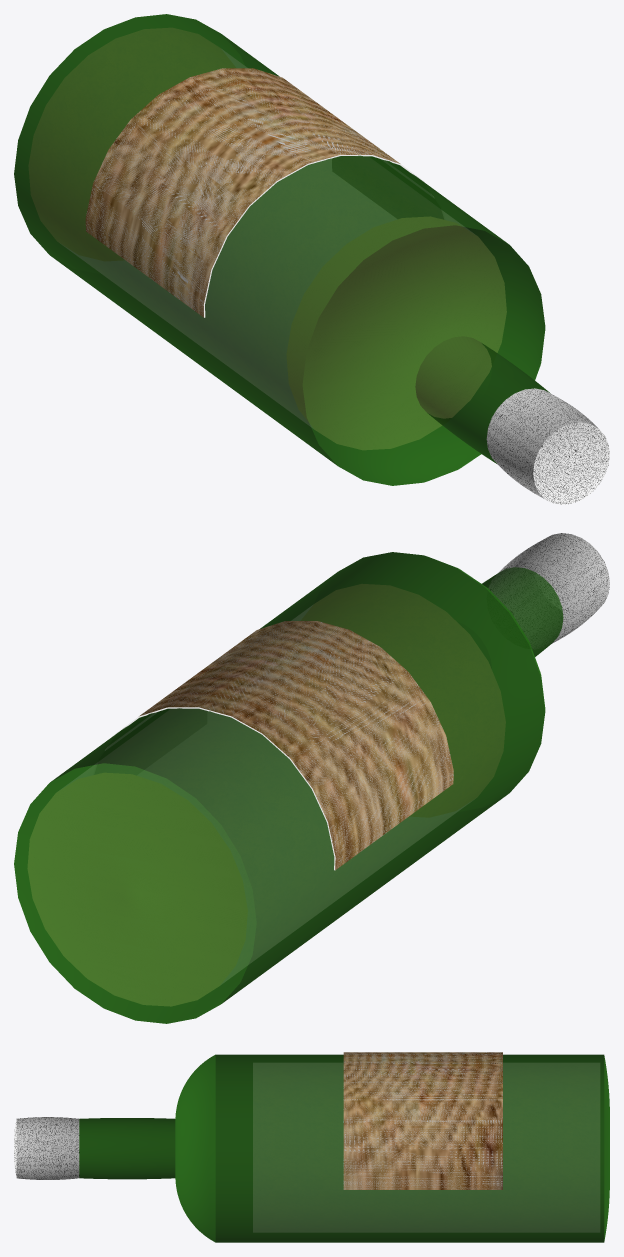
Rendered from model_align.obj.
3 views of the same model, one above another, from view 1: azimuth 30°, elevation 25°; view 2: azimuth 150°, elevation 25°; view 3: azimuth 270°, elevation 25° (orthographic). The views are drawn at different scales.
Parts seen in each view (by area): view 1: mesh3_mesh3-geometry, mesh5_mesh5-geometry, mesh1_mesh1-geometry, mesh2_mesh2-geometry, mesh4_mesh4-geometry; view 2: mesh3_mesh3-geometry, mesh1_mesh1-geometry, mesh4_mesh4-geometry, mesh2_mesh2-geometry, mesh5_mesh5-geometry; view 3: mesh3_mesh3-geometry, mesh2_mesh2-geometry, mesh5_mesh5-geometry, mesh4_mesh4-geometry.
Part boxes in pixels (<box>): mesh3_mesh3-geometry: <box>14,14,544,485</box>; mesh5_mesh5-geometry: <box>302,225,609,504</box>; mesh1_mesh1-geometry: <box>29,28,506,449</box>; mesh2_mesh2-geometry: <box>85,68,433,317</box>; mesh4_mesh4-geometry: <box>14,14,243,273</box>; mesh3_mesh3-geometry: <box>14,552,545,1023</box>; mesh1_mesh1-geometry: <box>28,584,505,1005</box>; mesh4_mesh4-geometry: <box>14,763,256,1023</box>; mesh2_mesh2-geometry: <box>105,621,453,870</box>; mesh5_mesh5-geometry: <box>315,533,609,811</box>; mesh3_mesh3-geometry: <box>215,1054,604,1242</box>; mesh2_mesh2-geometry: <box>343,1052,502,1189</box>; mesh5_mesh5-geometry: <box>14,1054,215,1242</box>; mesh4_mesh4-geometry: <box>604,1056,609,1240</box>.
Size of the model in its own units: 0.0491 by 0.0483 by 0.1518.
